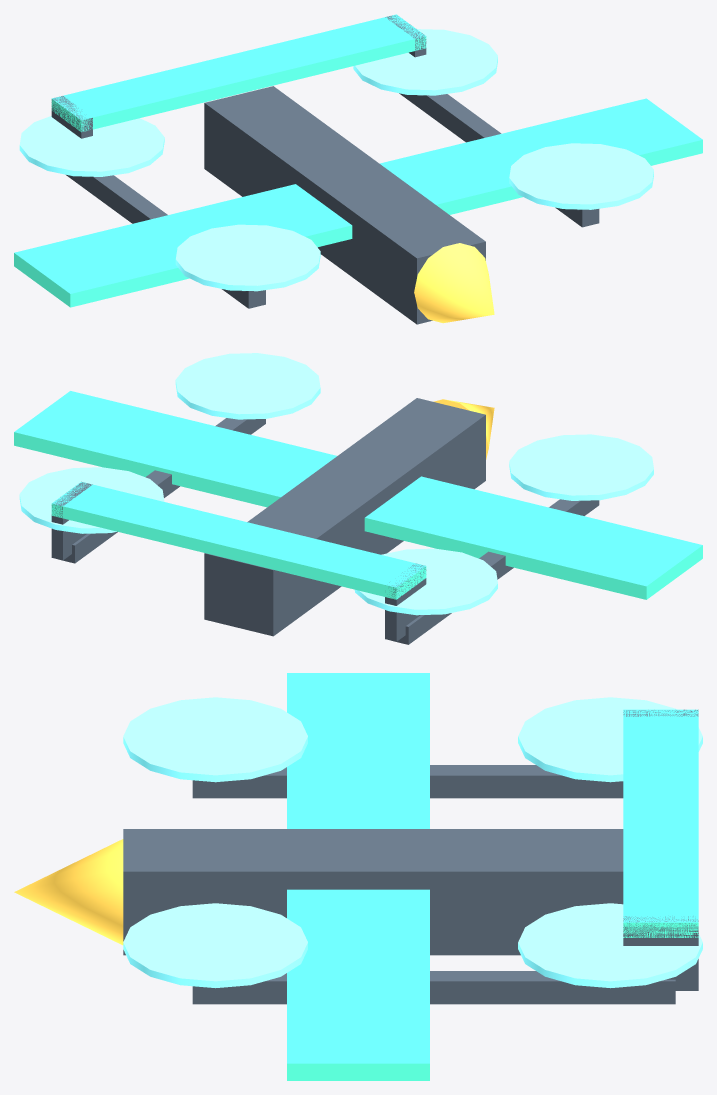
The model's file is uav_vtol.glb.
The picture shows the model from 3 angles, top to bottom: view 1: azimuth 30°, elevation 25°; view 2: azimuth 150°, elevation 25°; view 3: azimuth 270°, elevation 25°; orthographic projection. The views are drawn at different scales.
Parts seen in each view (by area): view 1: UAV_HybridVTOL; view 2: UAV_HybridVTOL; view 3: UAV_HybridVTOL.
Boxes of the visible parts, box(x1,y1,x2,y2) form: UAV_HybridVTOL: box(14, 14, 702, 324); UAV_HybridVTOL: box(14, 353, 702, 644); UAV_HybridVTOL: box(14, 673, 702, 1080).
Size of the model in its own units: 2.2 by 0.3267 by 1.64.
